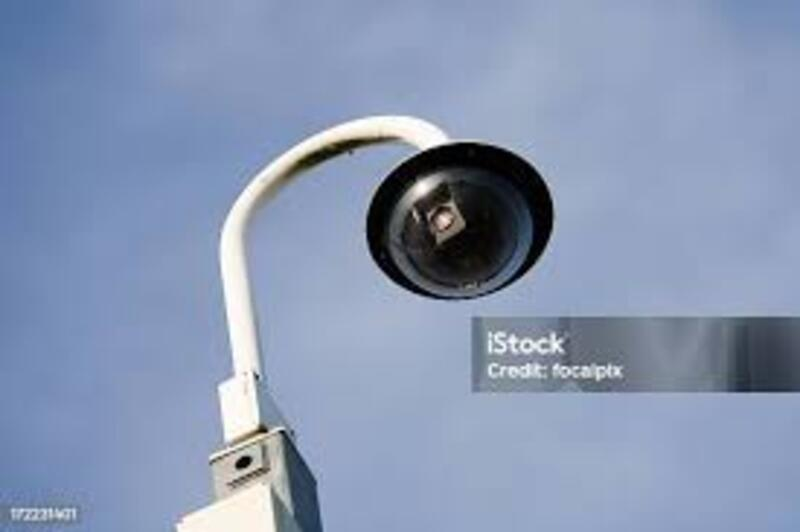dome: (361, 133, 563, 300)
